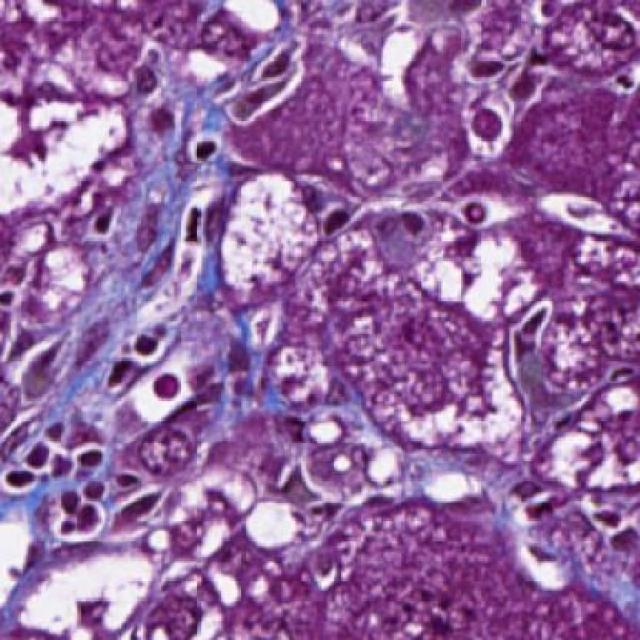ballooning: (216, 163, 330, 304)
